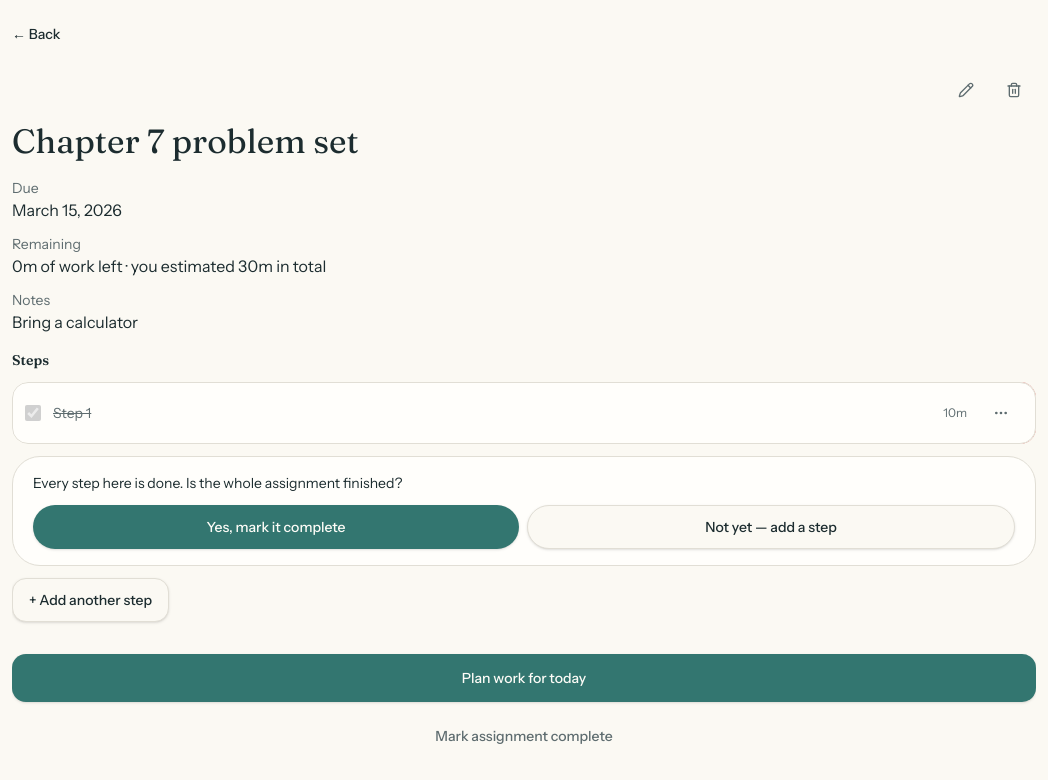
AssignmentDetailPage › all steps done (item 4) › shows the all-done card; 'Not yet — add a step' opens the add form
The image size is (1048, 780).
Expected: the text "Every step here is done. Is the whole assignment finished?" is shown, [33,474,402,492]
Click the button "Not yet — add a step".
click(771, 527)  # box [527,505,1015,549]
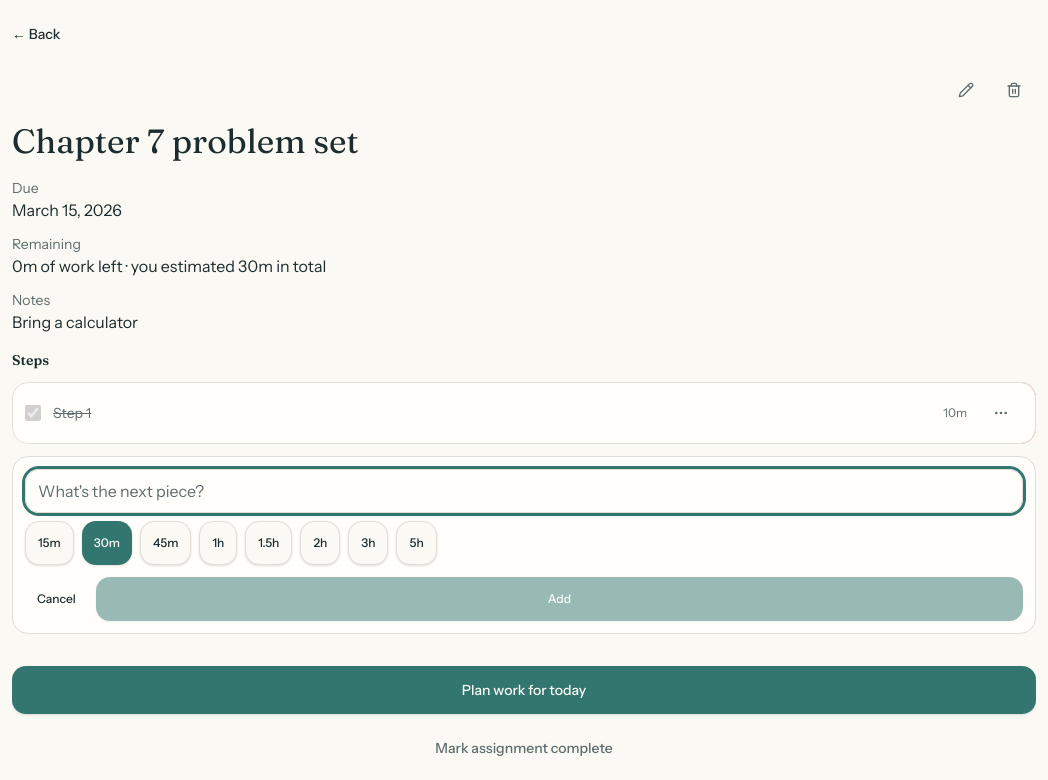
Now the field named "New step title" is shown, box [25,469,1023,513]
